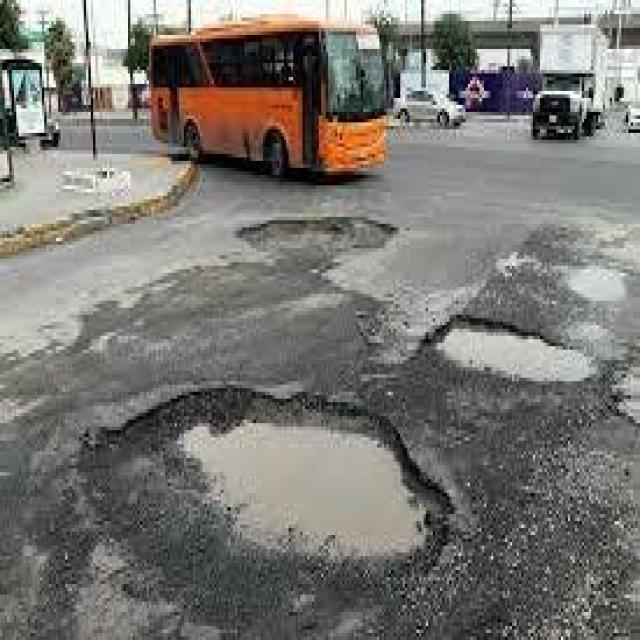Pothole: (95, 360, 482, 612), (405, 255, 640, 416), (184, 200, 426, 290)
